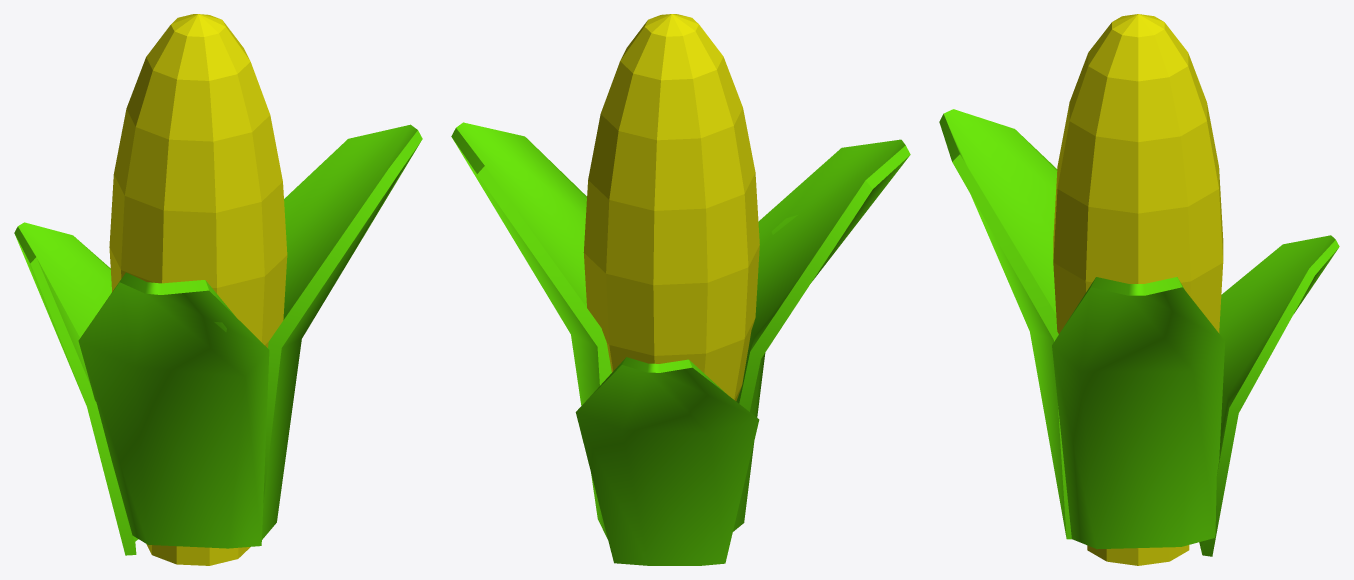
The model's file is Corn_Drop_Model.fbx.
3 renders of one model, left to right at view 1: azimuth 30°, elevation 25°; view 2: azimuth 150°, elevation 25°; view 3: azimuth 270°, elevation 25°, orthographic.
Parts seen in each view (by area): view 1: Corn_model; view 2: Corn_model; view 3: Corn_model.
Part boxes in pixels (<box>): Corn_model: <box>14,14,422,565</box>; Corn_model: <box>451,14,910,565</box>; Corn_model: <box>939,14,1339,565</box>.
Bounding box in the file's own units: 0.2757 × 0.3837 × 0.2609.
